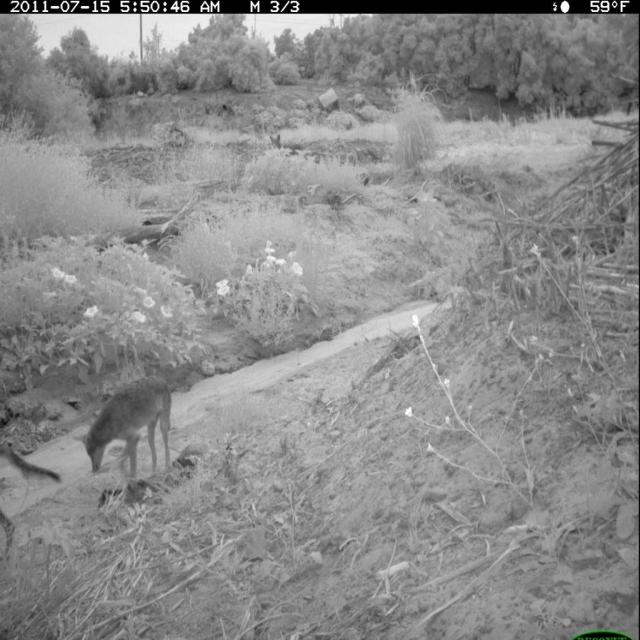coyote: (73, 357, 187, 484)
